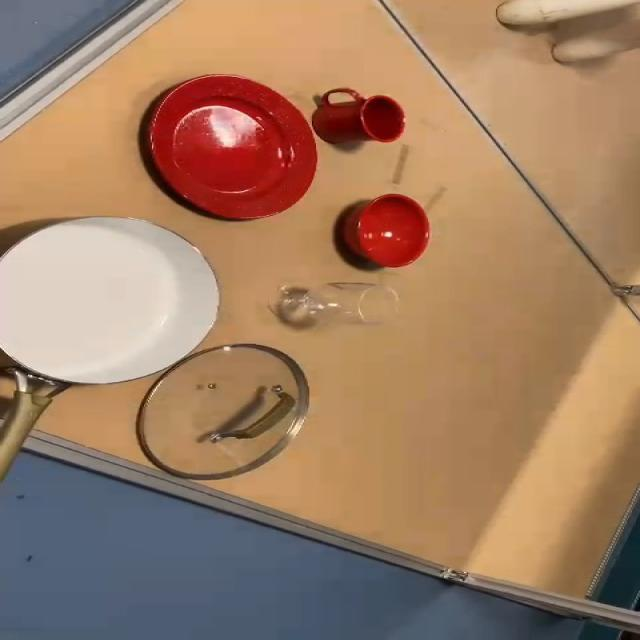Bowl: (338, 188, 437, 274)
Glass: (274, 282, 418, 331)
Plate: (138, 68, 324, 218)
cup: (310, 86, 412, 154)
pot: (0, 217, 223, 463)
